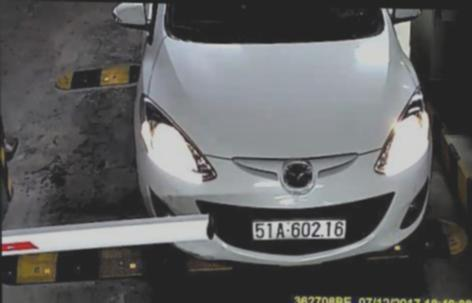License_Plate: (247, 212, 350, 243)
